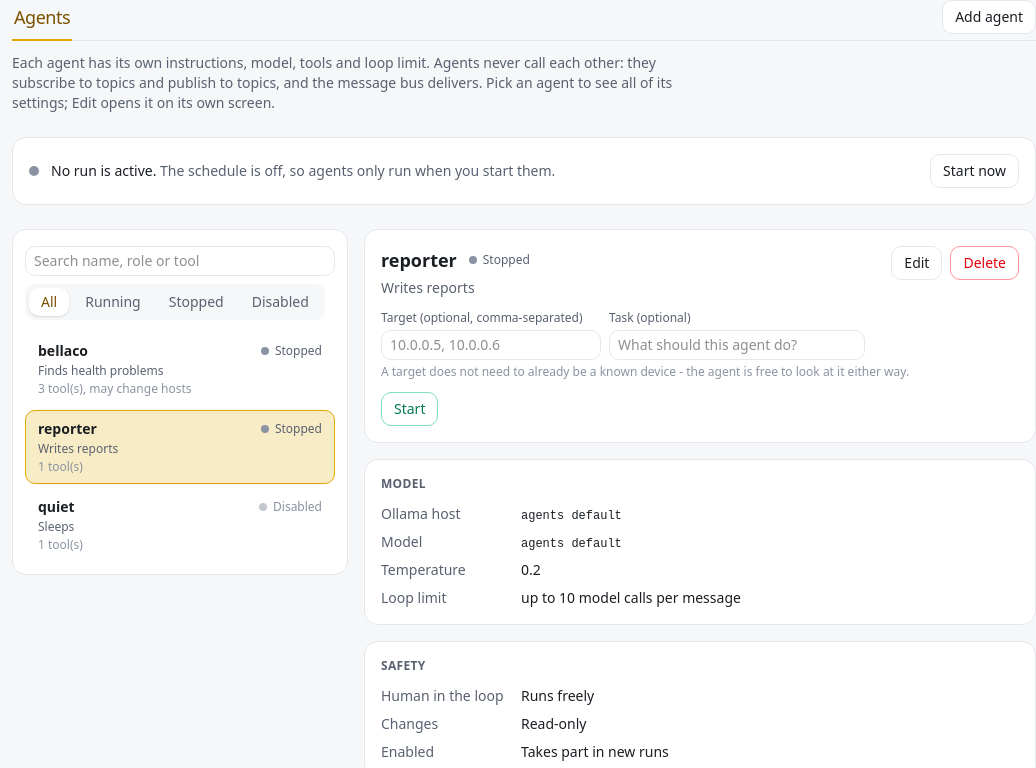
Test case: AgentsPage › selects an agent from the list and from the address
The image size is (1036, 768).
Check: the heading "reporter" is shown, box [381,246,457,274]
Check: the text "Read-only" is shown, box [521,714,586,733]
Click the text "quiet": (56,507) [38,497,75,517]
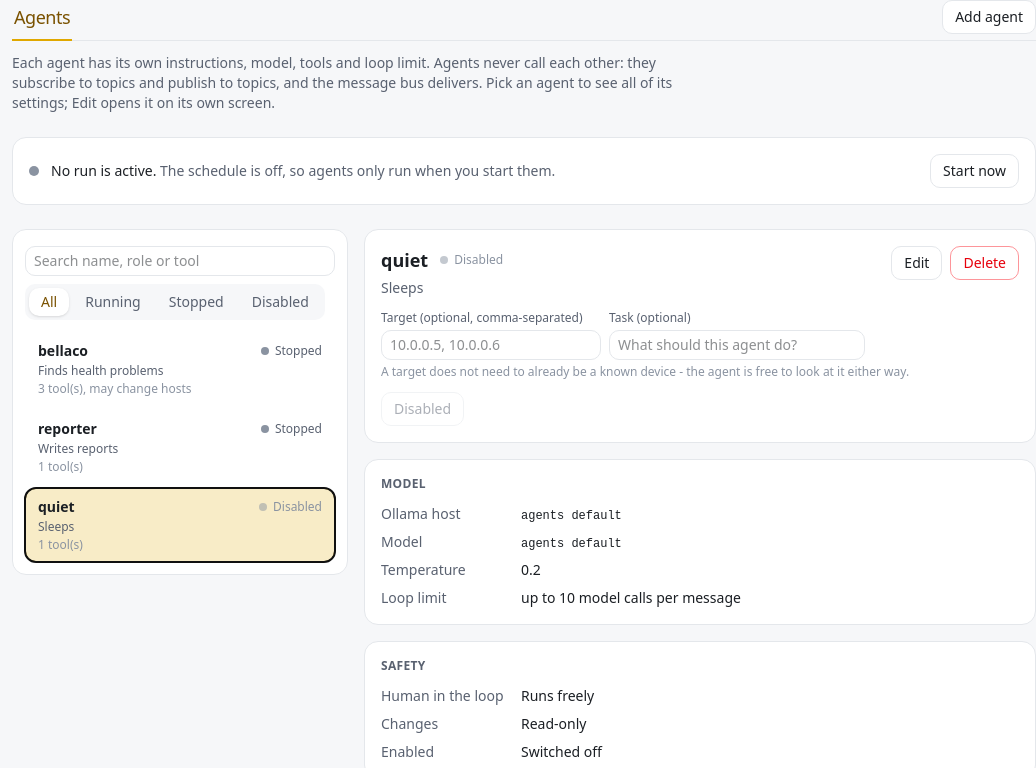
Check: the heading "quiet" is shown, box [381,246,428,274]
Check: the text "Switched off" is shown, box [521,742,602,761]
